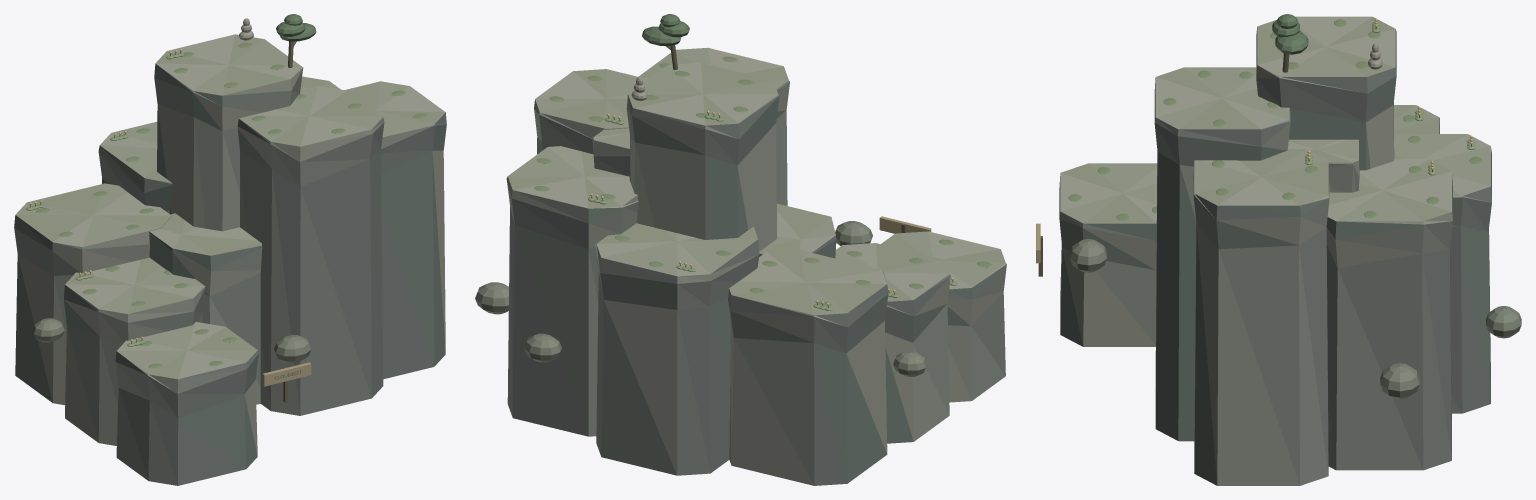
Rendered from cloudrest.glb.
3 renders of one model, left to right at view 1: azimuth 30°, elevation 25°; view 2: azimuth 150°, elevation 25°; view 3: azimuth 270°, elevation 25°, orthographic. The views are drawn at different scales.
Visible parts, largest first — view 1: cloudrest_Architecture_Mesh; view 2: cloudrest_Architecture_Mesh; view 3: cloudrest_Architecture_Mesh.
Part boxes in pixels (x1,y1,x2,y2): cloudrest_Architecture_Mesh: [14, 14, 446, 485]; cloudrest_Architecture_Mesh: [475, 14, 1006, 485]; cloudrest_Architecture_Mesh: [1036, 14, 1521, 485].
Size of the model in its own units: 11.86 by 10.24 by 11.24.
